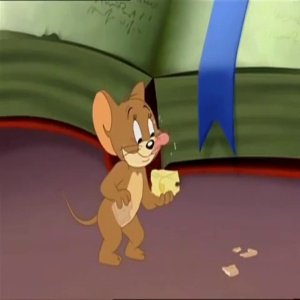Jerry: (86, 77, 173, 168)
